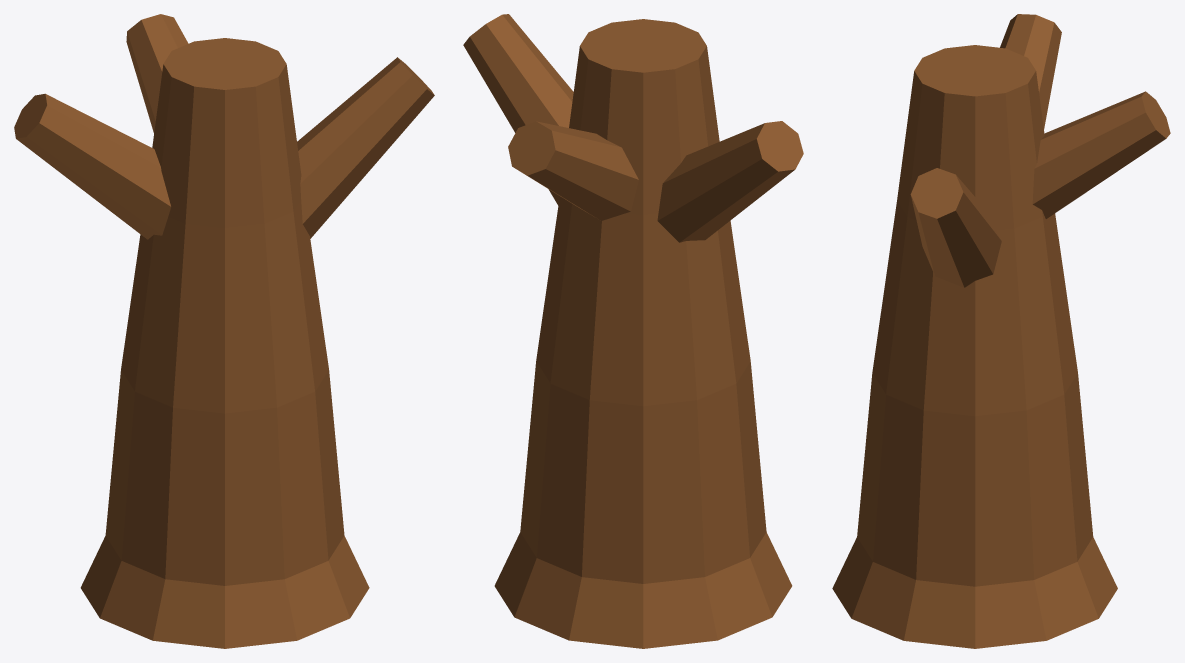
Rendered from OakTrunk.obj.
The picture shows the model from 3 angles, left to right: view 1: azimuth 30°, elevation 25°; view 2: azimuth 150°, elevation 25°; view 3: azimuth 270°, elevation 25°; orthographic projection. The views are drawn at different scales.
Parts seen in each view (by area): view 1: OakTrunk_Bark; view 2: OakTrunk_Bark; view 3: OakTrunk_Bark.
Part boxes in pixels (left/top/right/bottom): OakTrunk_Bark: left=14, top=14, right=434, bottom=648; OakTrunk_Bark: left=463, top=14, right=803, bottom=648; OakTrunk_Bark: left=832, top=14, right=1170, bottom=648.
Size of the model in its own units: 2.19 by 3 by 1.78.
